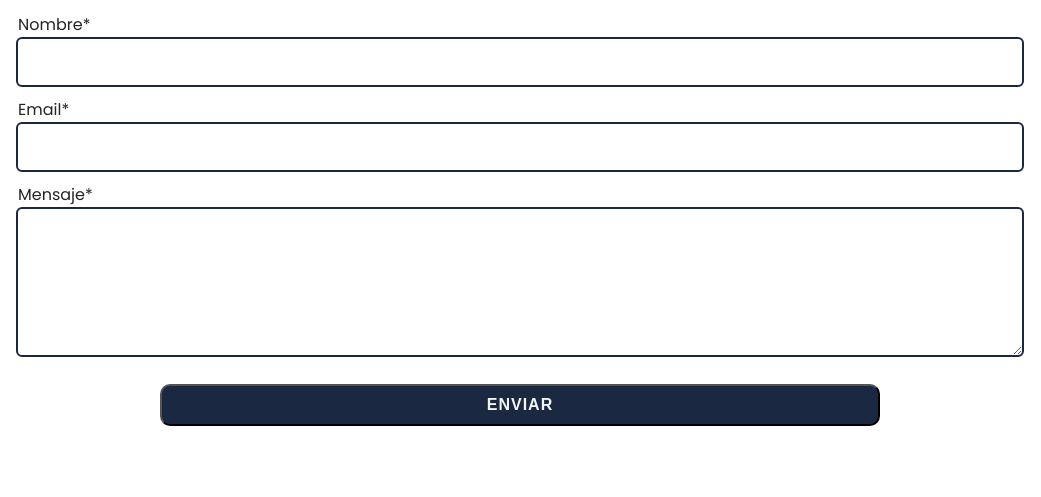
Test: should show required error message when inputs are empty on submit
# fire submit with out any input
Click the button "ENVIAR".
click(520, 405)  # box [160, 384, 880, 426]
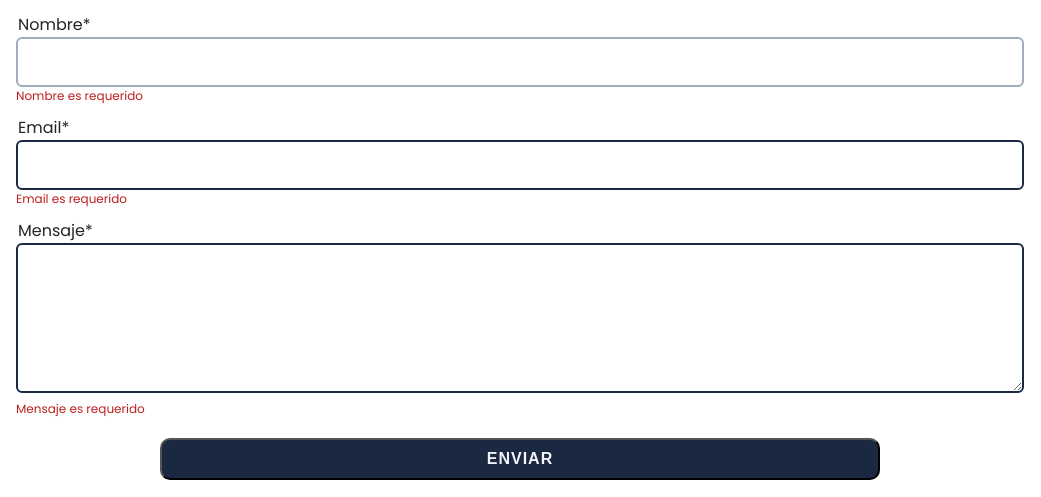
Result: the text "Nombre es requerido" is shown at [16, 87, 143, 104]
Result: the text "Email es requerido" is shown at [16, 190, 127, 207]
Result: the text "Mensaje es requerido" is shown at [16, 400, 145, 417]
